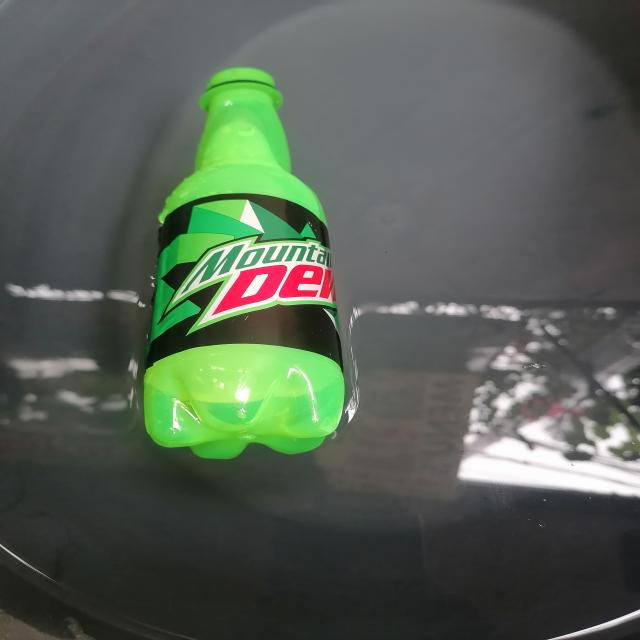Plastic Bottle: (144, 68, 348, 459)
